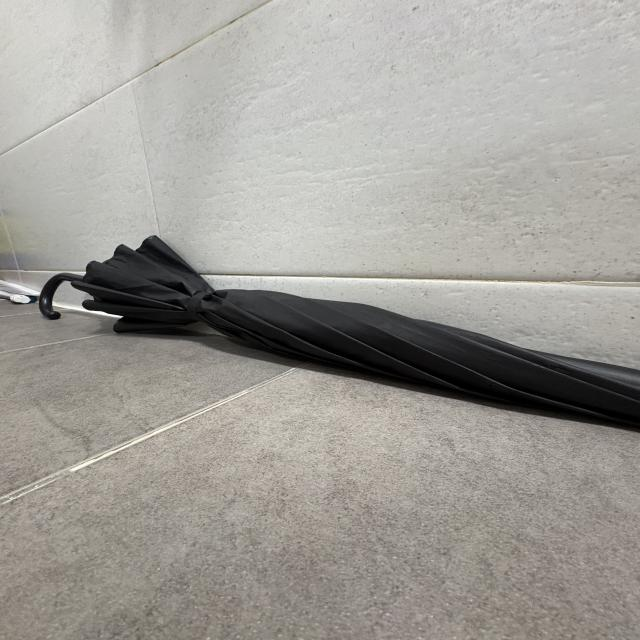umbrella: (40, 233, 640, 431)
